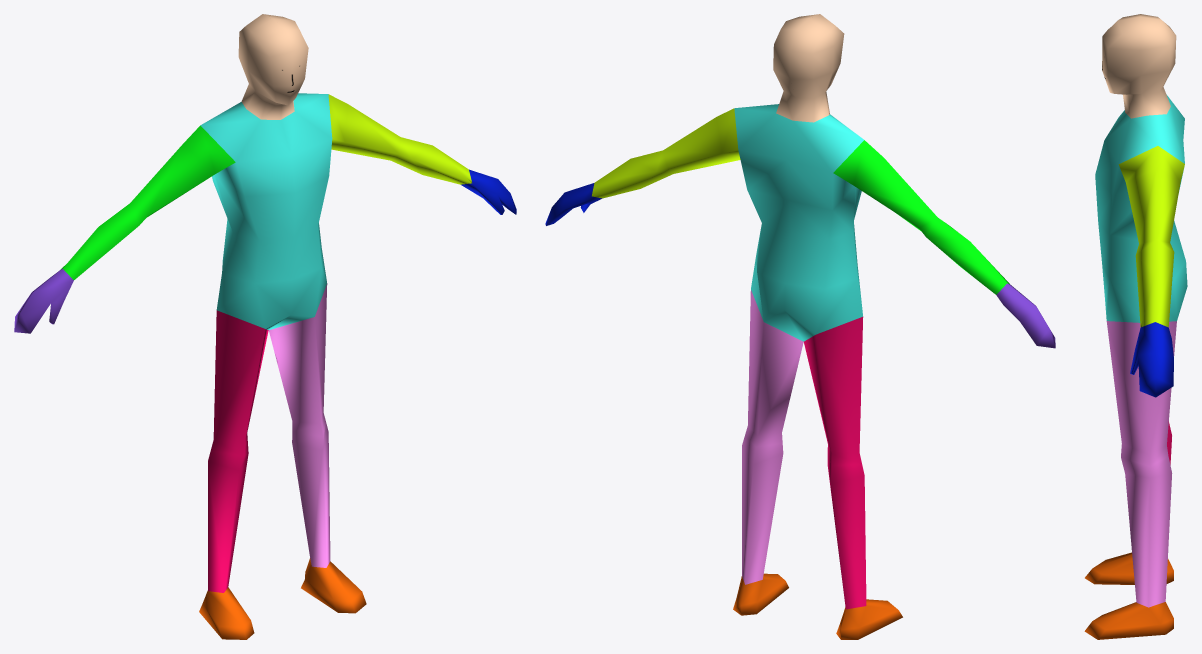
Rendered from Humanoid.glb.
3 renders of one model, left to right at view 1: azimuth 30°, elevation 25°; view 2: azimuth 150°, elevation 25°; view 3: azimuth 270°, elevation 25°, orthographic.
Parts seen in each view (by area): view 1: HumanoidBase_NotOverlapping; view 2: HumanoidBase_NotOverlapping; view 3: HumanoidBase_NotOverlapping.
Boxes of the visible parts, x1,y1,x2,y2 form: HumanoidBase_NotOverlapping: (14,14,516,639); HumanoidBase_NotOverlapping: (545,14,1055,639); HumanoidBase_NotOverlapping: (1084,14,1187,639).
Bounding box in the file's own units: 1.61 × 1.8 × 0.2862.
1 material, 1 textured.
